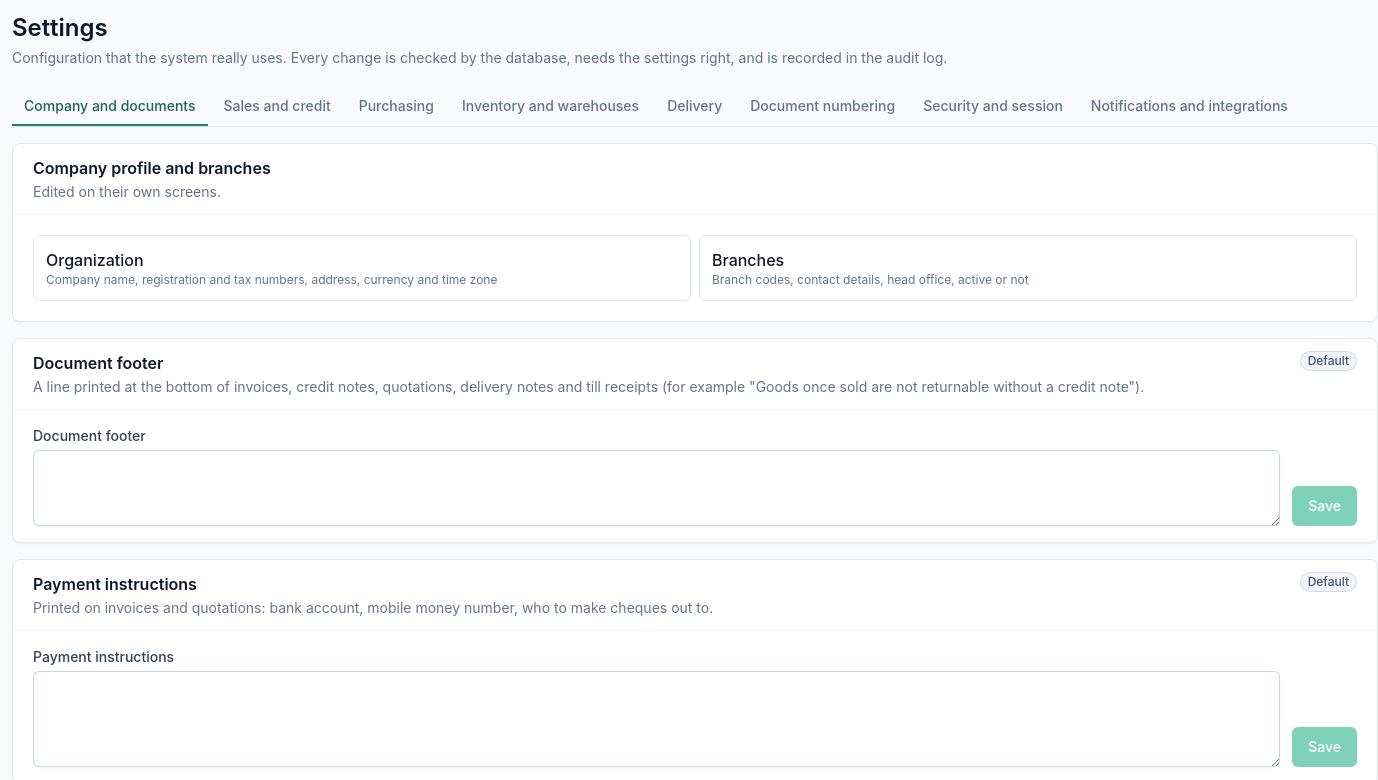
Test case: Settings page › does not pretend notifications or integrations can be configured
Click the tab "Notifications and integrations" at (1189, 107), box 1079,88 -> 1300,126
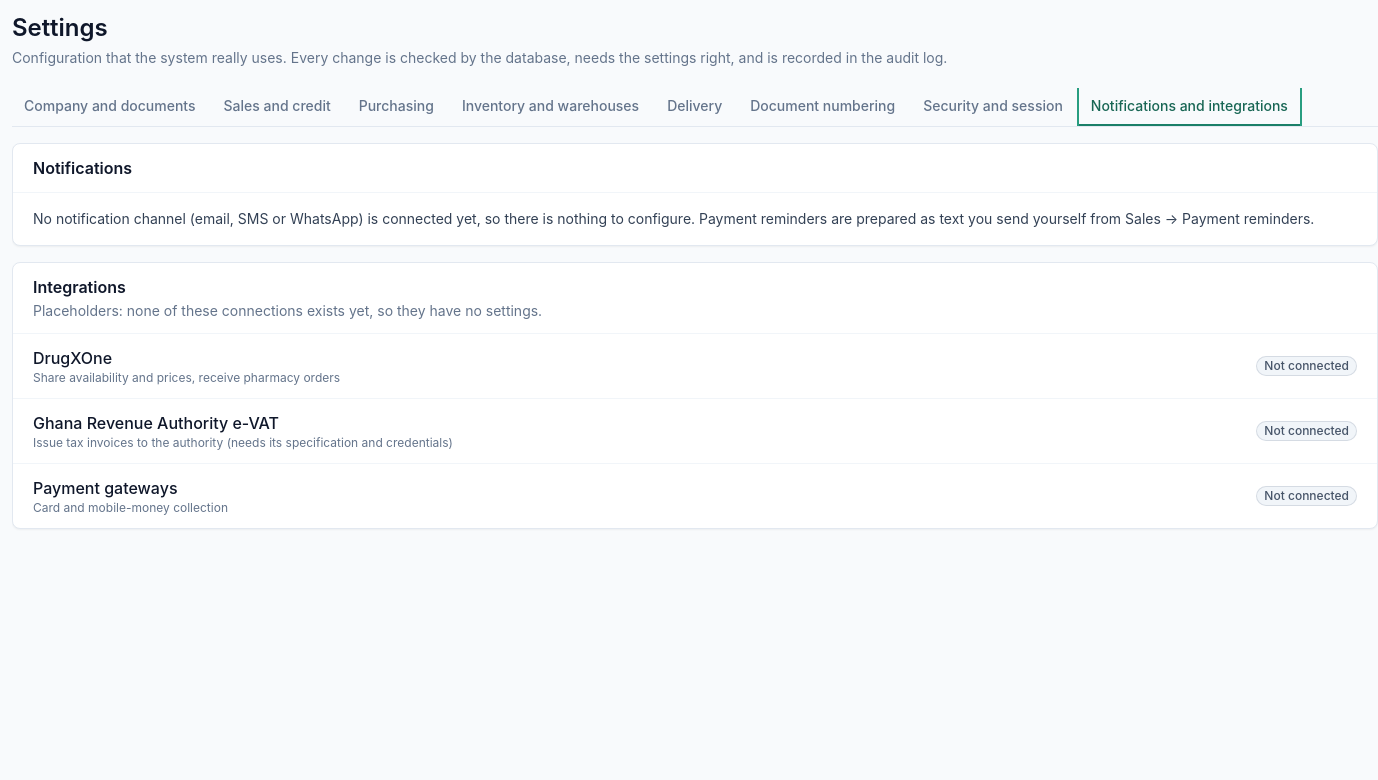
Result: the text "nothing to configure" is shown at 33,210 -> 1314,227
Result: the text "Not connected" is shown 3 times at 1256,356 -> 1357,376; 1256,421 -> 1357,441; 1256,486 -> 1357,506
